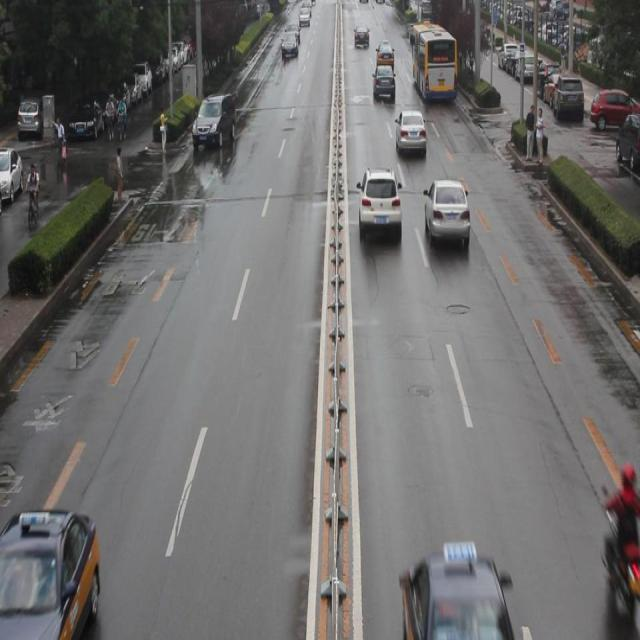car: (0, 502, 99, 627), (401, 541, 519, 640), (356, 169, 401, 240), (423, 180, 468, 247), (394, 108, 428, 160)
truck: (193, 93, 234, 146)
